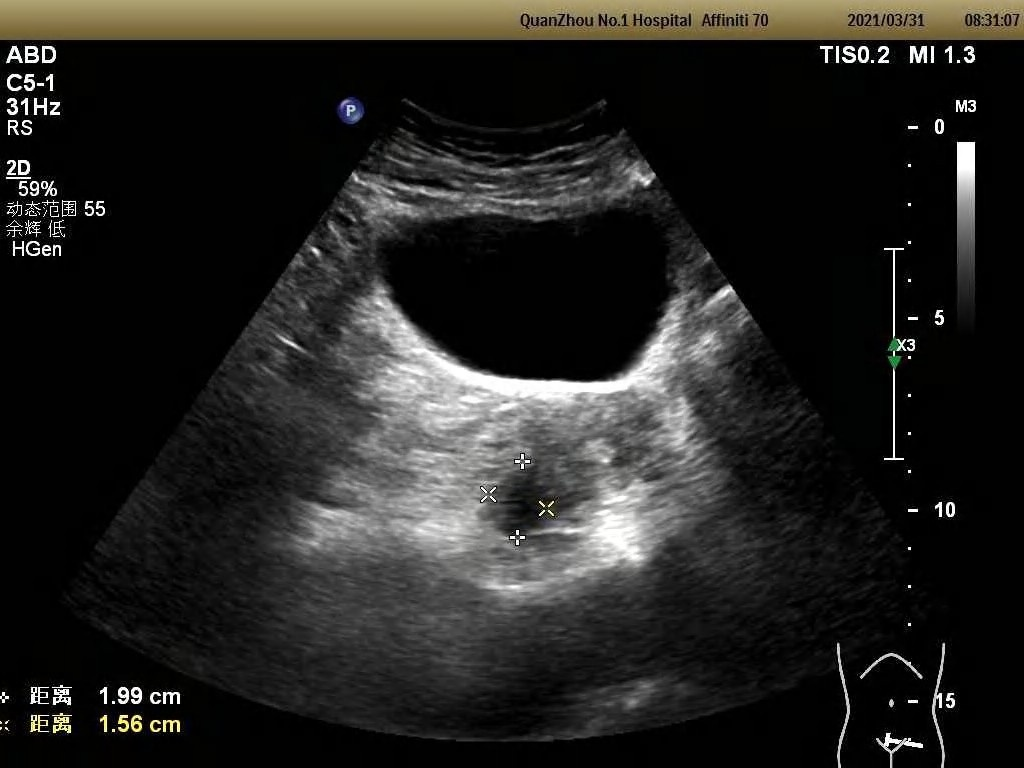肌瘤: (489, 464, 548, 535)
